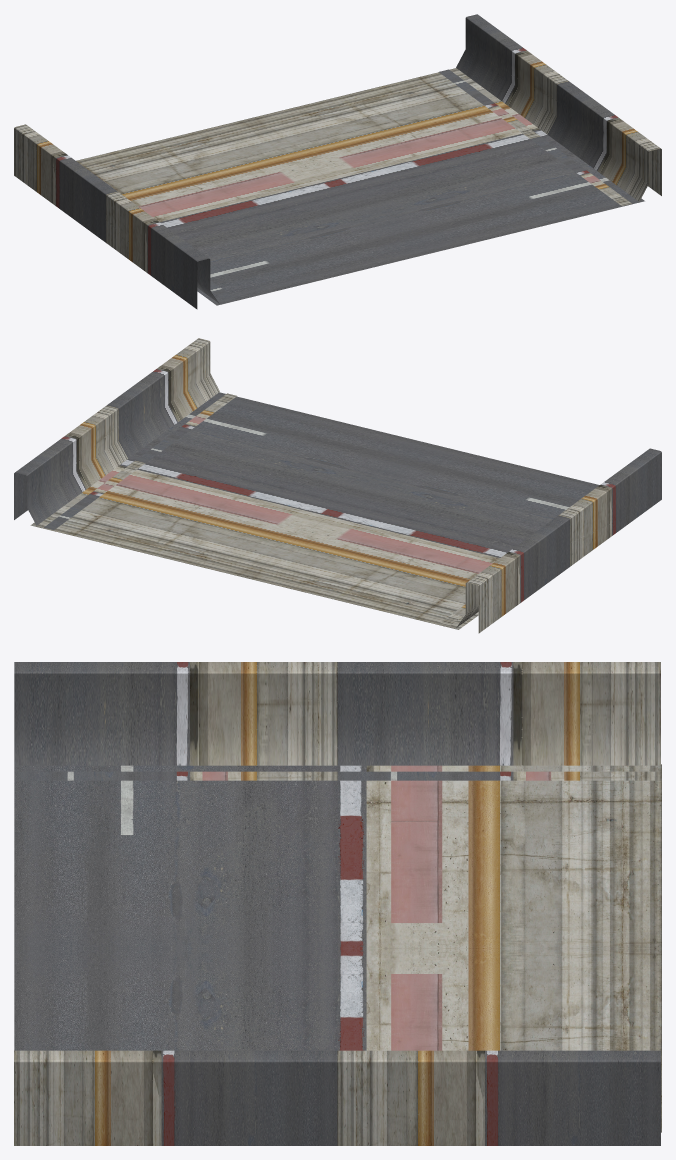
File: road2.fbx
The picture shows the model from 3 angles, top to bottom: view 1: azimuth 30°, elevation 25°; view 2: azimuth 150°, elevation 25°; view 3: azimuth 270°, elevation 25°; orthographic projection. The views are drawn at different scales.
Visible parts, largest first — view 1: polySurface3160; view 2: polySurface3160; view 3: polySurface3160.
Boxes of the visible parts, left/top/right/bottom form: polySurface3160: left=14, top=14, right=661, bottom=309; polySurface3160: left=14, top=338, right=661, bottom=633; polySurface3160: left=14, top=662, right=661, bottom=1145.
Size of the model in its own units: 1460 by 147 by 1000.
